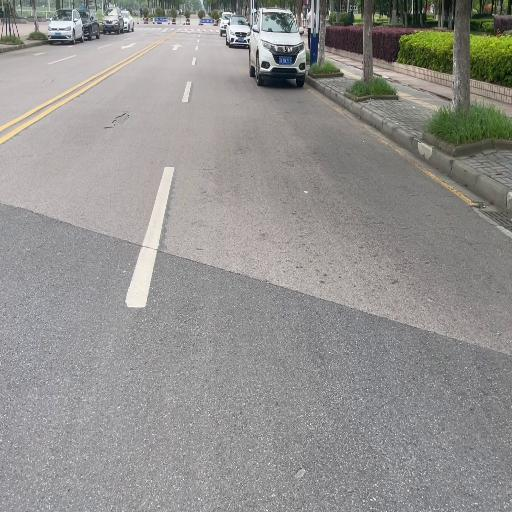Sambungan: (0, 199, 512, 512)
